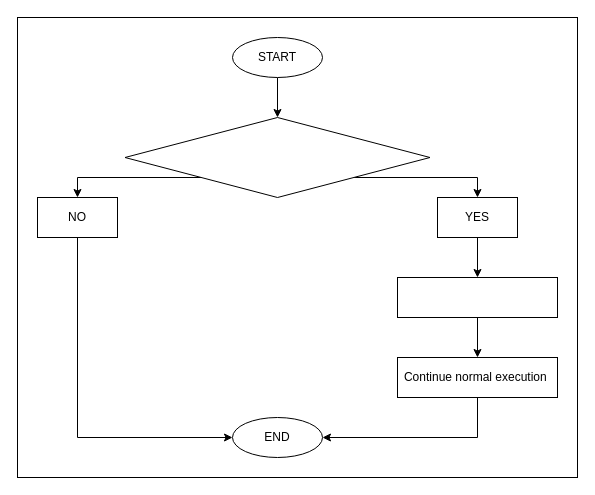
Image size: 595x495. Some labels were removed from this diagram. The shapes that lost their labels are listed below. From the top down, each one's centre as x and y in pixels, then its label:
At (277,157): "Check if the VERBOSE mode is enabled (variable VERBOSE=true)".
At (477,297): "Display the message text provided as argument".
